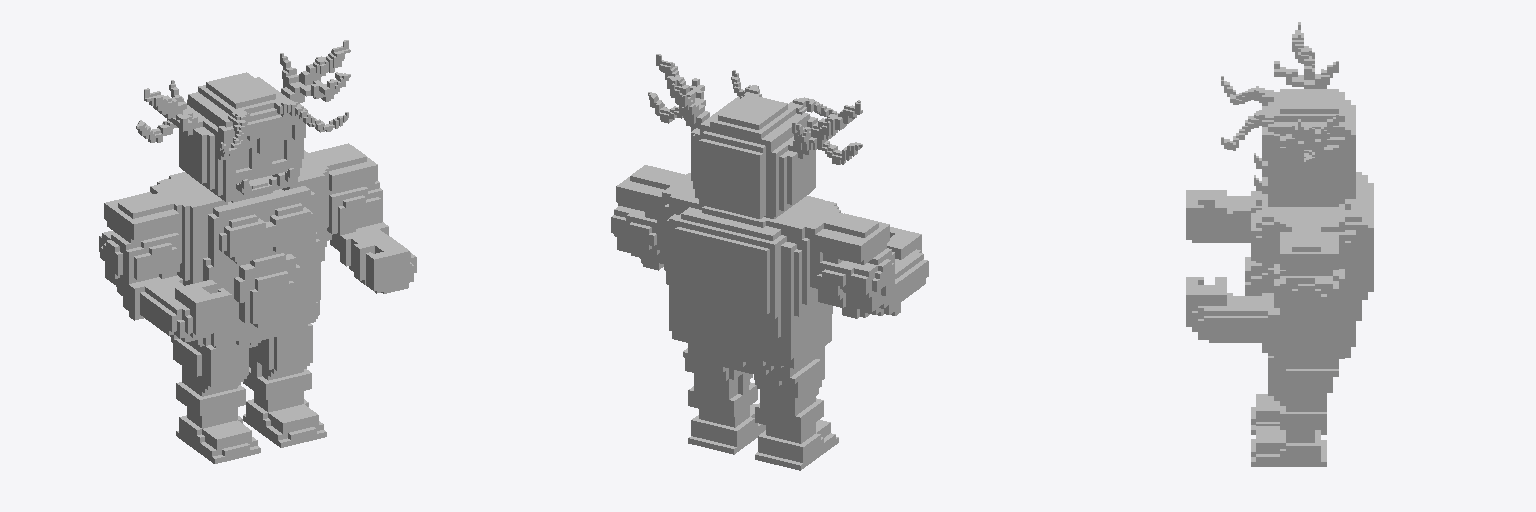
Rendered from Gaurdian 2.obj.
3 views of the same model, side by side, from view 1: azimuth 30°, elevation 25°; view 2: azimuth 150°, elevation 25°; view 3: azimuth 270°, elevation 25° (orthographic).
Parts seen in each view (by area): view 1: object 1; view 2: object 1; view 3: object 1.
Part boxes in pixels (x1,y1,x2,y2): object 1: (99, 40, 416, 463); object 1: (611, 54, 928, 470); object 1: (1186, 22, 1373, 466).
Size of the model in its own units: 10.4 by 13.8 by 6.4.